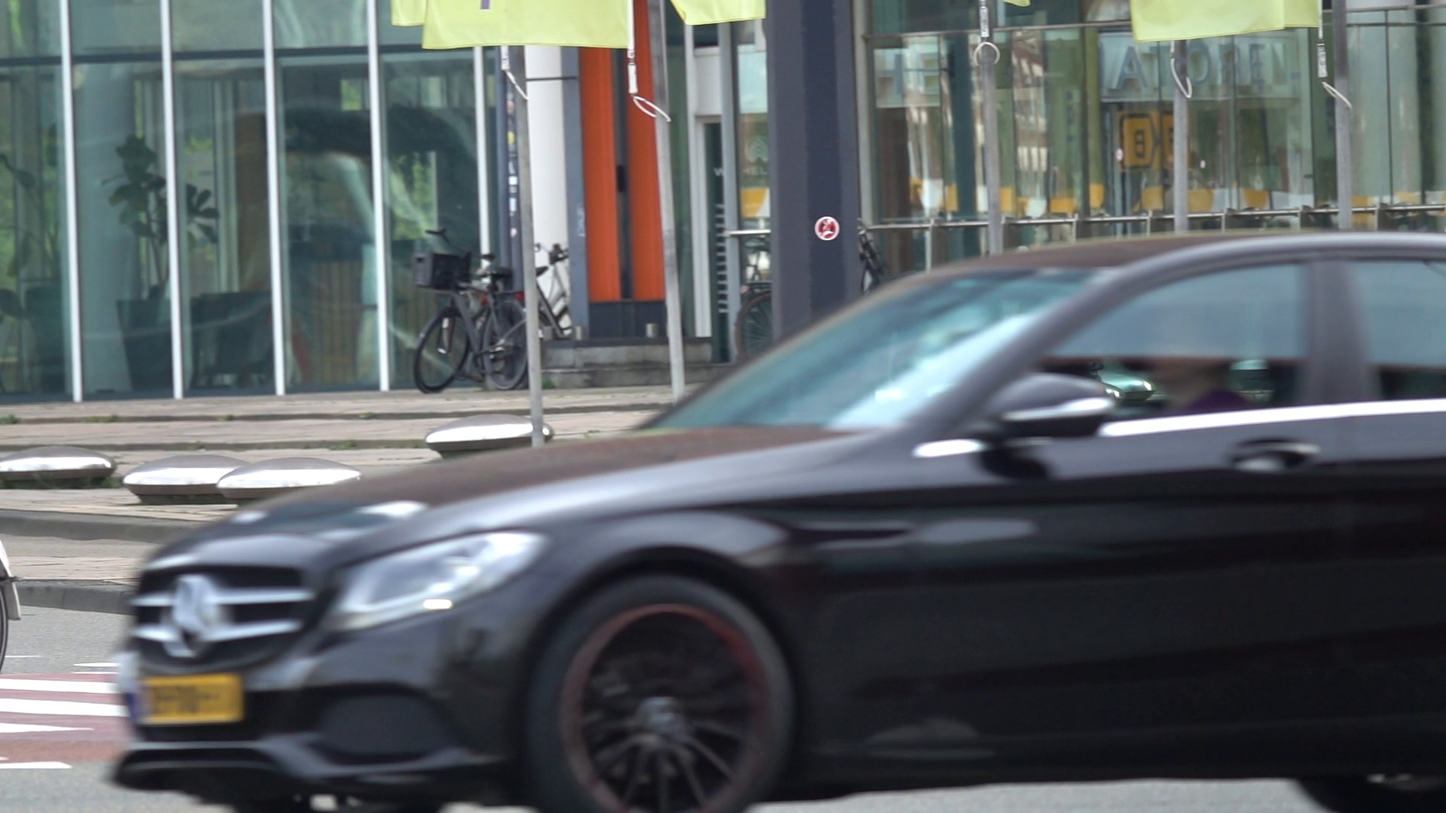car: (102, 221, 1442, 806)
